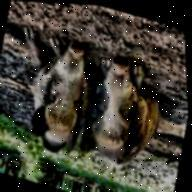boar: (0, 8, 106, 170), (71, 41, 183, 184)
